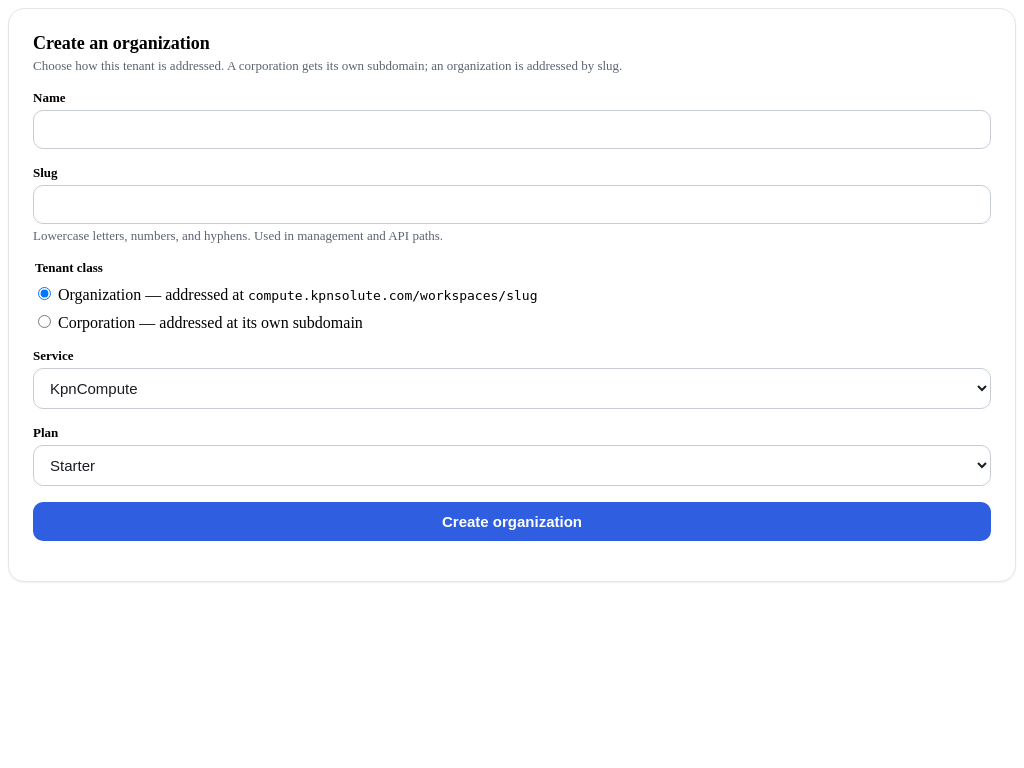
Test: ProvisionOrganizationPage › asks for a subdomain only once a corporation is chosen
This screenshot has width=1024, height=768.
In the field labelled "Name": (512, 130) [33, 110, 991, 149], type "MJCC"
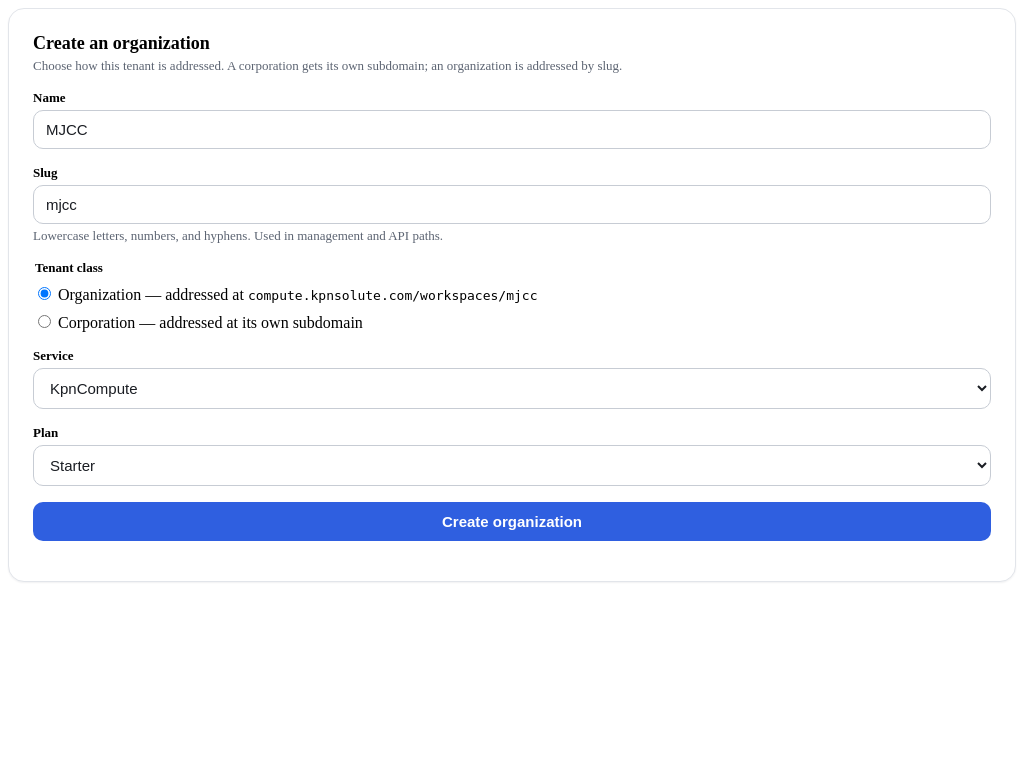
Click the radio button labelled "Corporation — addressed at its own subdomain": click(44, 322) [38, 315, 51, 328]
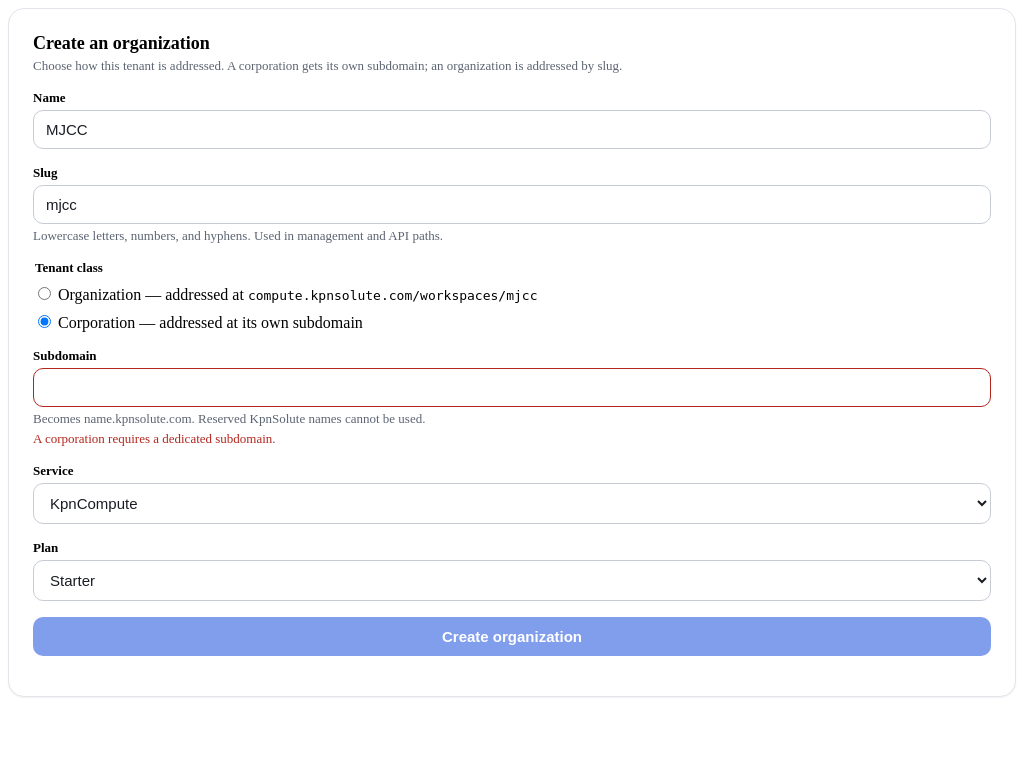
Check: the field labelled "Subdomain" is shown, box [33, 368, 991, 407]
